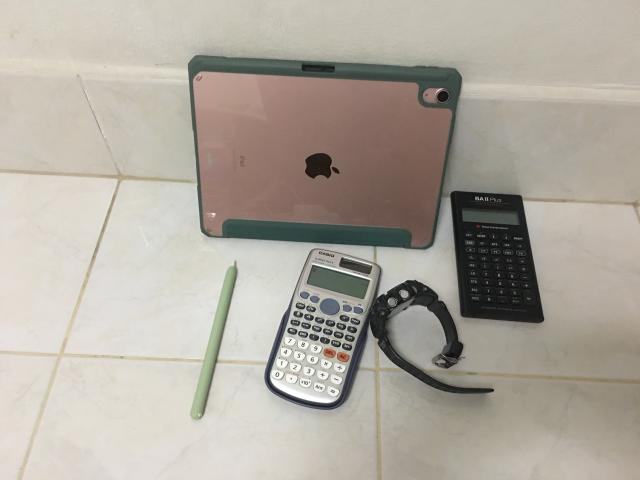Watch: (370, 280, 494, 394)
